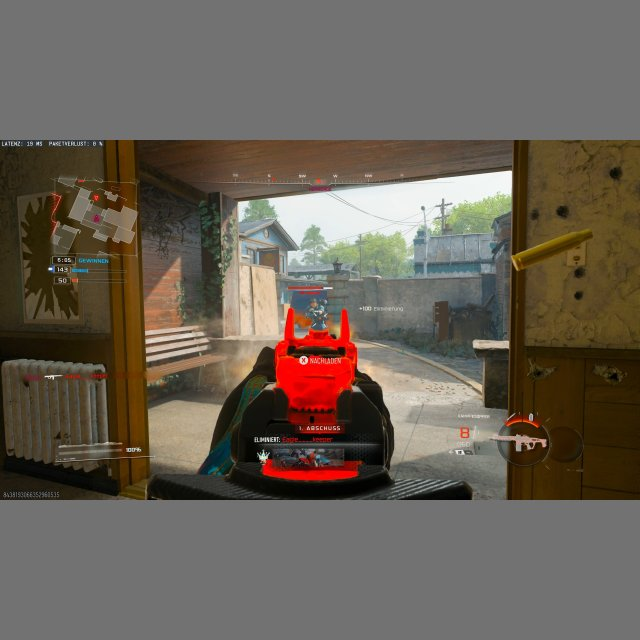player: (305, 299, 327, 330)
